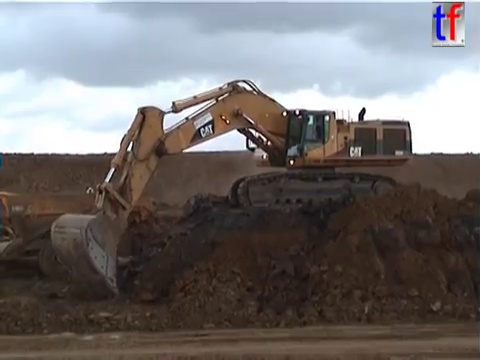excavator: (47, 76, 415, 301)
truck: (1, 189, 156, 282)
worker: (82, 181, 96, 208)
